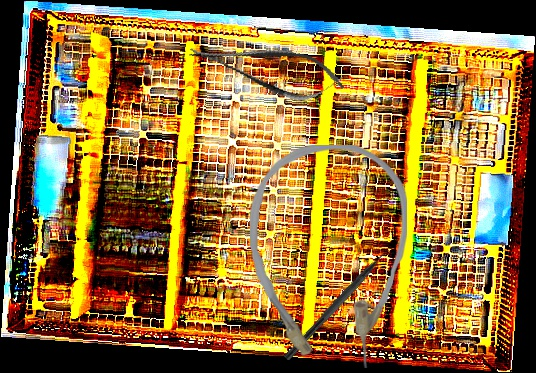Cannula: (250, 145, 407, 368)
Chopper: (283, 241, 401, 369)
Micro Scissor: (184, 25, 350, 112)
